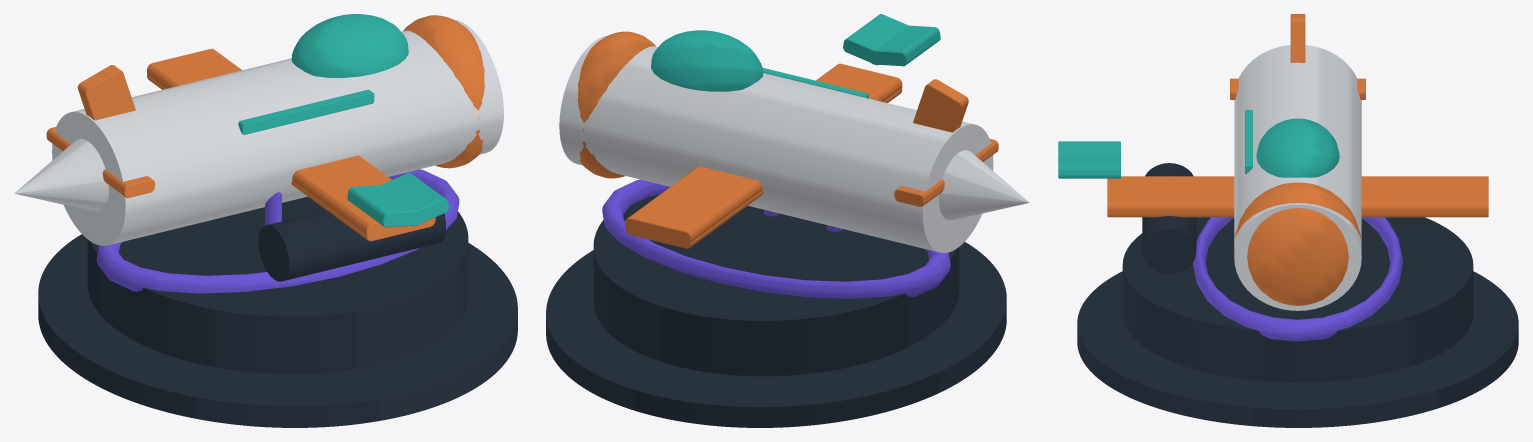
File: 0366_航空航天图鉴_总装测试厂房.glb
3 views of the same model, side by side, from view 1: azimuth 30°, elevation 25°; view 2: azimuth 150°, elevation 25°; view 3: azimuth 270°, elevation 25° (orthographic). The views are drawn at different scales.
Parts seen in each view (by area): view 1: card_0366; view 2: card_0366; view 3: card_0366.
Boxes of the visible parts, x1=… form: card_0366: x1=14, y1=14, x2=517, y2=427; card_0366: x1=546, y1=14, x2=1029, y2=427; card_0366: x1=1058, y1=14, x2=1518, y2=427.
Bounding box in the file's own units: 1.67 × 1 × 1.64.
